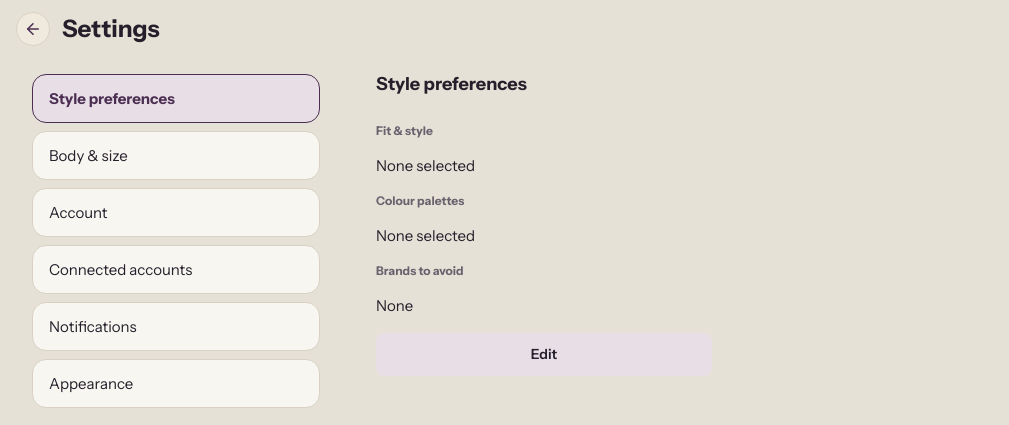
Scenario: SettingsPage › switching sections via the list shows that section's content
Expected: the button "Style preferences" is shown, [32,74,320,123]
Click the button "Notifications": [93, 326] box [32,302,320,351]
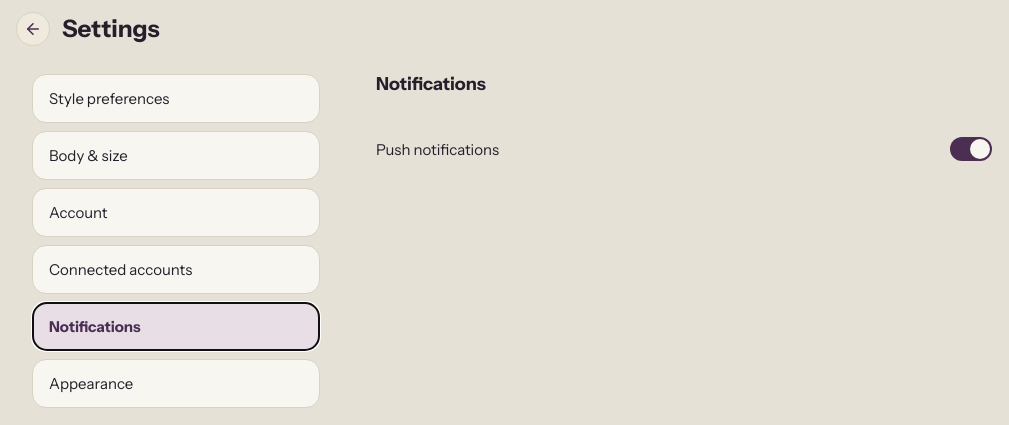
Expected: the text "Push notifications" is shown, [376,138,499,161]
